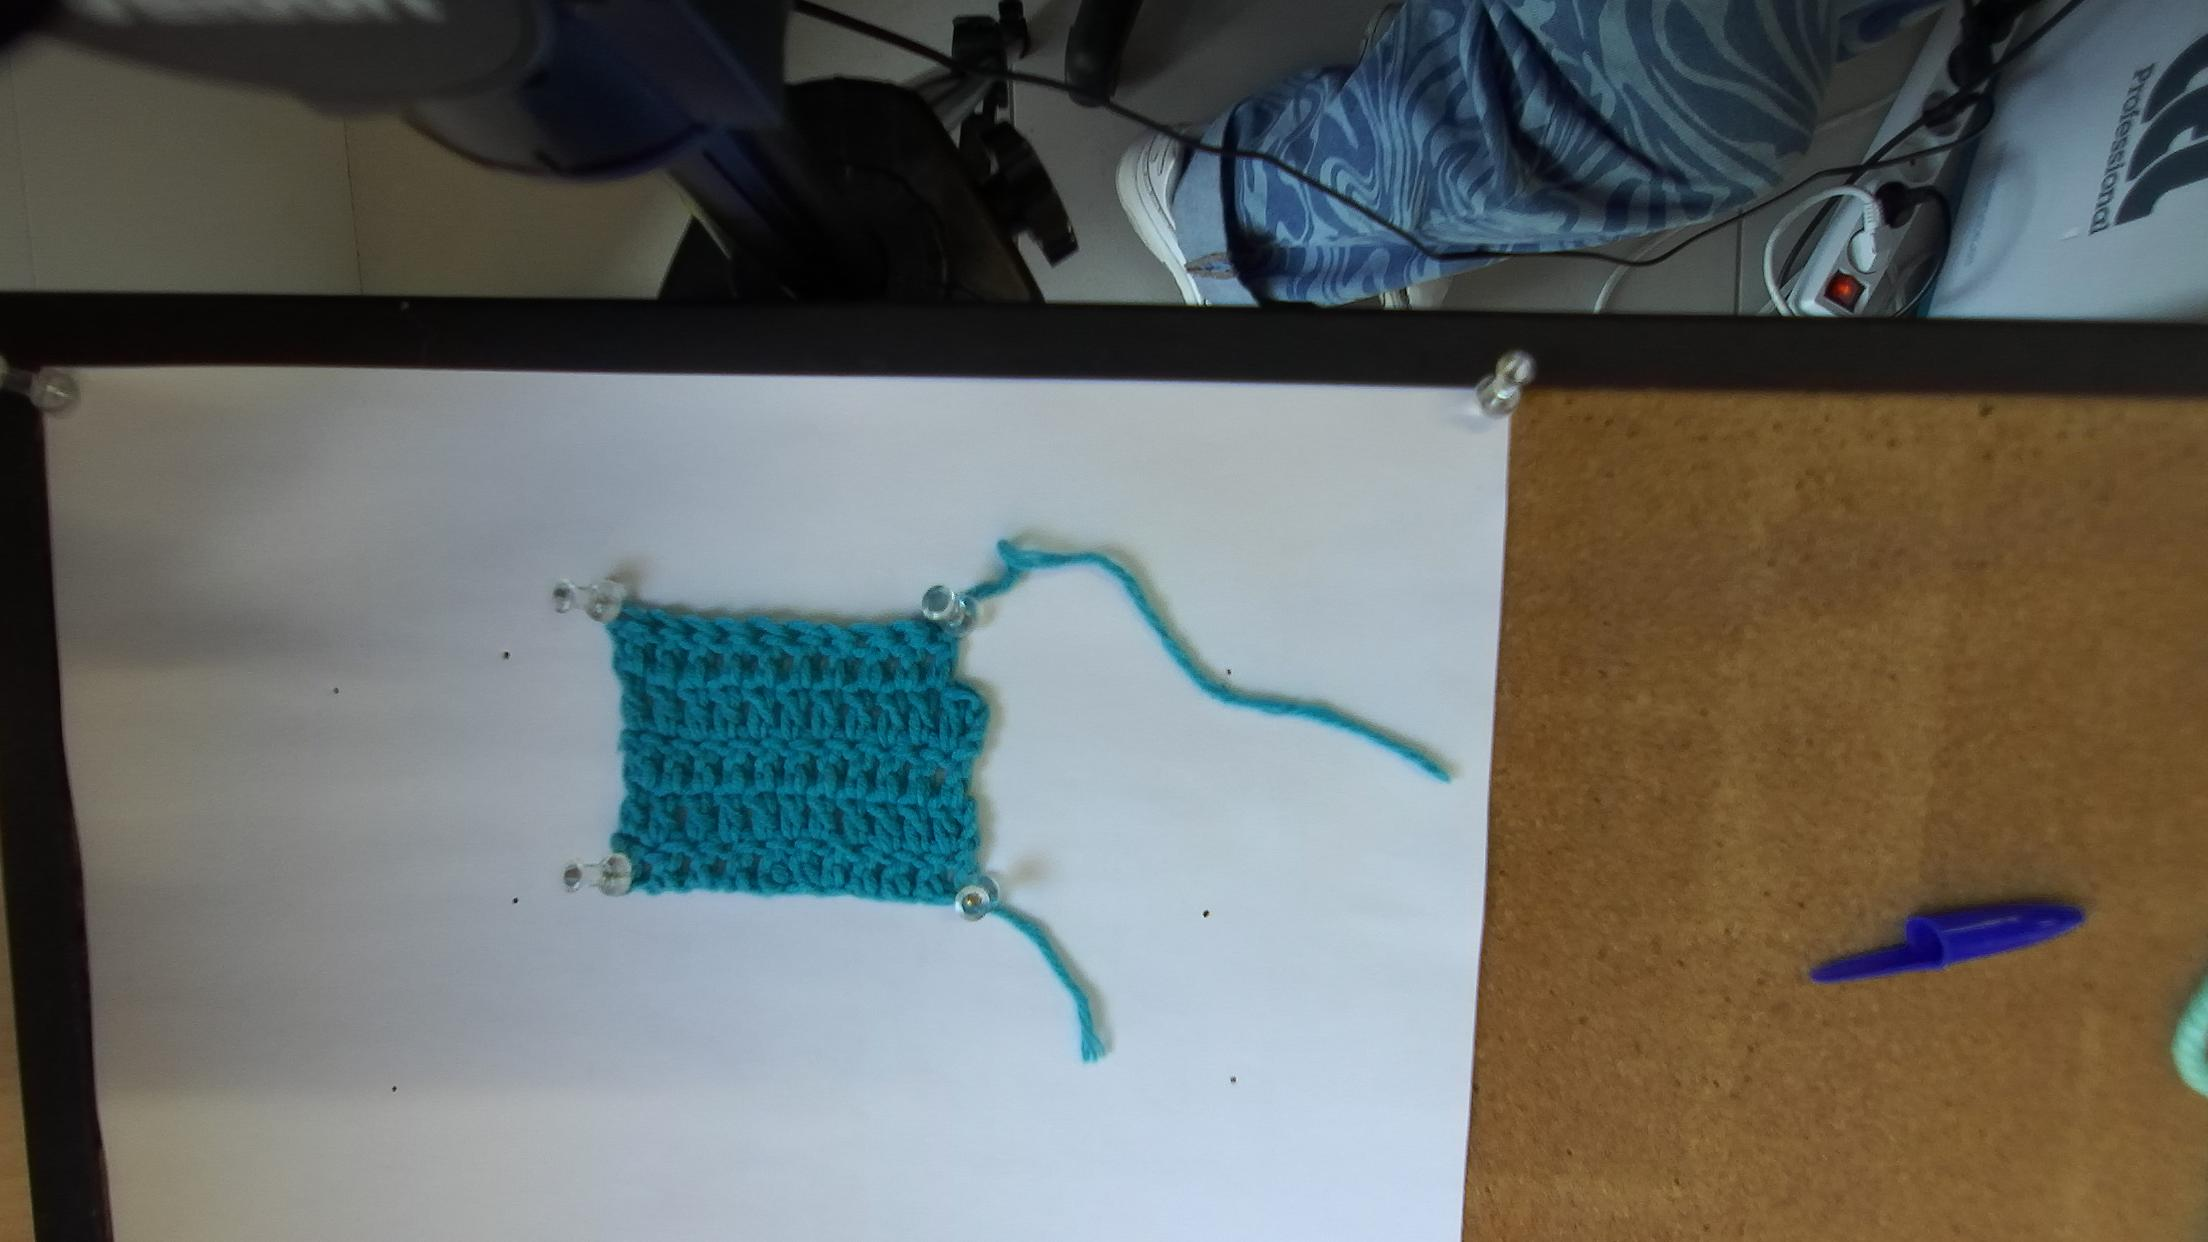hole: (648, 614, 670, 634), (682, 623, 701, 640), (784, 628, 805, 641), (748, 626, 767, 638), (714, 628, 731, 641), (855, 632, 875, 643), (890, 631, 907, 643), (616, 613, 634, 622), (928, 632, 940, 643), (822, 634, 836, 643)
swatch: (575, 604, 993, 914)
